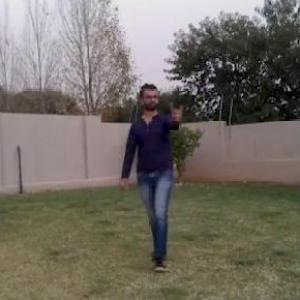takeoff-hand: (168, 94, 192, 123)
